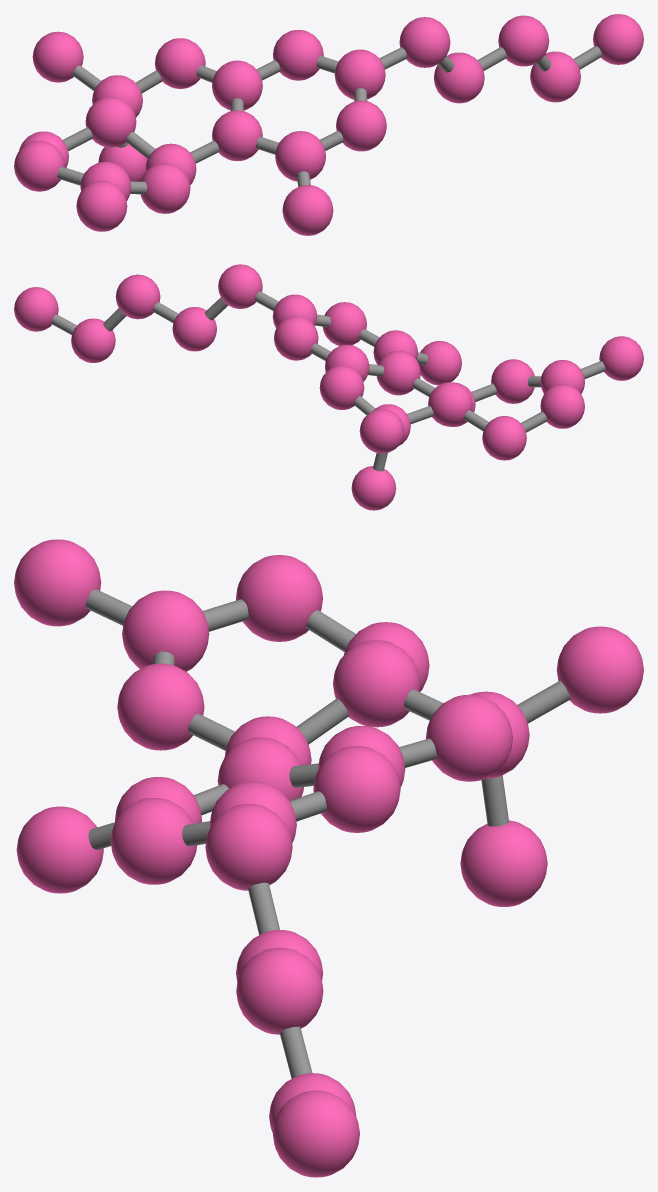
File: thc_pink.fbx
The picture shows the model from 3 angles, top to bottom: view 1: azimuth 30°, elevation 25°; view 2: azimuth 150°, elevation 25°; view 3: azimuth 270°, elevation 25°; orthographic projection. The views are drawn at different scales.
Parts seen in each view (by area): view 1: atom_1_O, atom_15_C, atom_17_C, atom_20_C, atom_18_C, atom_22_C, atom_11_C, atom_7_C, atom_2_C, atom_8_C, atom_6_C, atom_0_O (+20 smaller); view 2: atom_5_C, atom_11_C, atom_7_C, atom_22_C, atom_20_C, atom_18_C, atom_15_C, atom_14_C, atom_0_O, atom_12_C, atom_19_C, atom_21_C (+10 smaller); view 3: atom_22_C, atom_11_C, atom_20_C, atom_12_C, atom_18_C, atom_0_O, atom_15_C, atom_8_C, atom_14_C, atom_1_O, atom_2_C, atom_17_C (+20 smaller).
Part boxes in pixels (x1,y1,x2,y2): atom_1_O: (282, 185, 333, 235); atom_15_C: (76, 181, 127, 231); atom_17_C: (336, 100, 386, 151); atom_20_C: (498, 15, 549, 66); atom_18_C: (399, 17, 450, 67); atom_22_C: (593, 14, 643, 64); atom_11_C: (32, 31, 83, 82); atom_7_C: (14, 141, 64, 191); atom_2_C: (85, 97, 136, 147); atom_8_C: (140, 163, 190, 213); atom_6_C: (212, 110, 262, 161); atom_0_O: (155, 38, 205, 88); atom_5_C: (482, 416, 526, 460); atom_11_C: (359, 409, 404, 453); atom_7_C: (540, 384, 584, 428); atom_22_C: (14, 287, 58, 331); atom_20_C: (115, 274, 160, 319); atom_18_C: (218, 264, 262, 308); atom_15_C: (599, 336, 643, 380); atom_14_C: (274, 316, 318, 360); atom_0_O: (319, 365, 364, 409); atom_12_C: (351, 466, 396, 510); atom_19_C: (172, 307, 216, 351); atom_21_C: (71, 318, 115, 362); atom_22_C: (273, 1090, 359, 1177); atom_11_C: (556, 626, 643, 713); atom_20_C: (236, 947, 323, 1034); atom_12_C: (460, 820, 547, 906); atom_18_C: (205, 804, 292, 890); atom_0_O: (425, 694, 512, 781); atom_15_C: (14, 539, 101, 626); atom_8_C: (117, 663, 204, 750); atom_14_C: (313, 746, 400, 832); atom_1_O: (16, 806, 103, 893); atom_2_C: (333, 640, 419, 727); atom_17_C: (110, 798, 197, 884).
Size of the model in its own units: 14.41 by 7.22 by 3.6.
